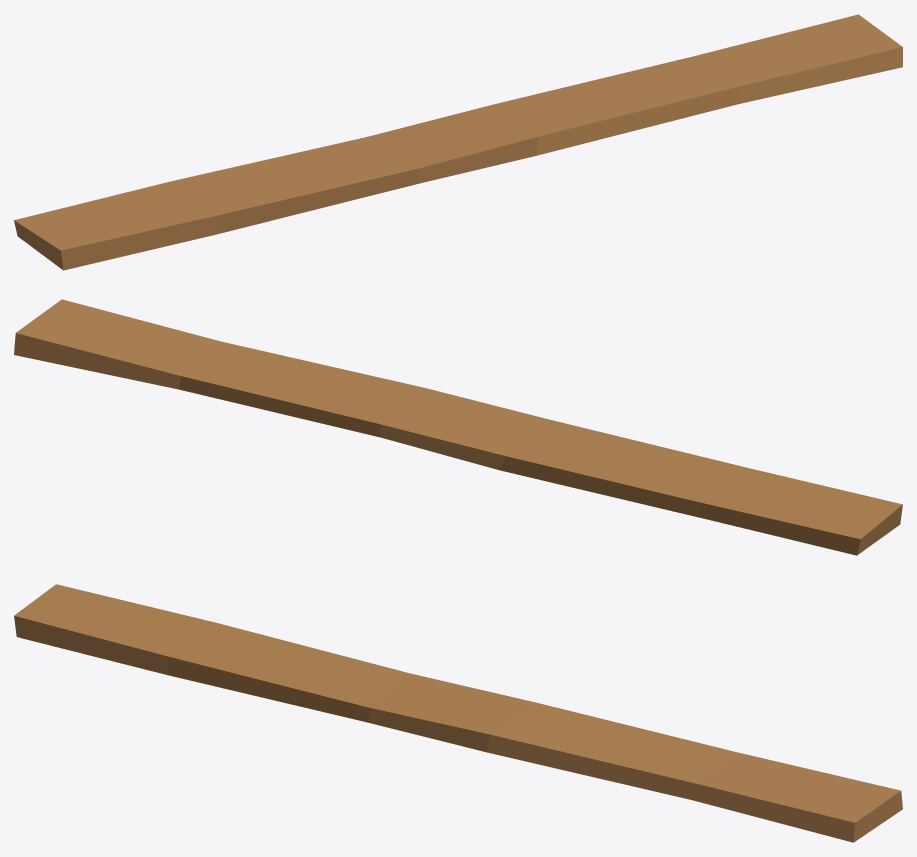
Rendered from Wood_Beam_02.fbx.
3 renders of one model, top to bottom at view 1: azimuth 30°, elevation 25°; view 2: azimuth 150°, elevation 25°; view 3: azimuth 330°, elevation 25°, orthographic.
Visible parts, largest first — view 1: Wood_Beam_02.003; view 2: Wood_Beam_02.003; view 3: Wood_Beam_02.003.
Part boxes in pixels (bbox=[...]): Wood_Beam_02.003: bbox=[14, 14, 902, 270]; Wood_Beam_02.003: bbox=[14, 299, 902, 555]; Wood_Beam_02.003: bbox=[14, 584, 902, 842].
Bounding box in the file's own units: 208 × 2092 × 52.19.
